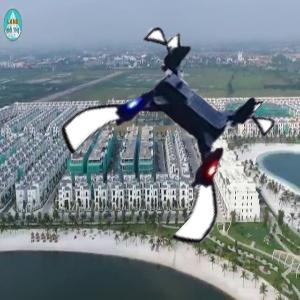drone: (82, 46, 268, 232)
